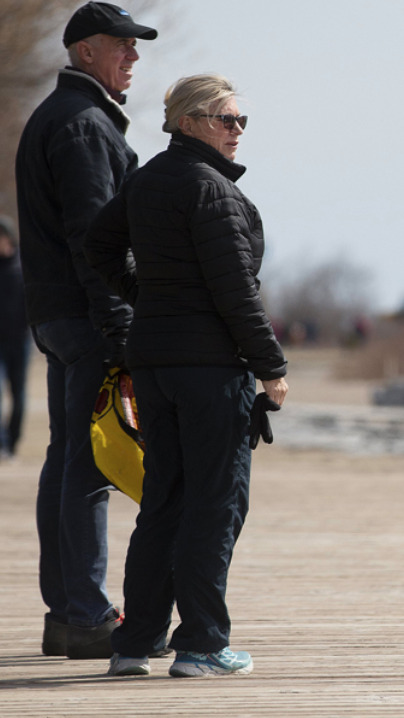Bad: (17, 3, 290, 678)
